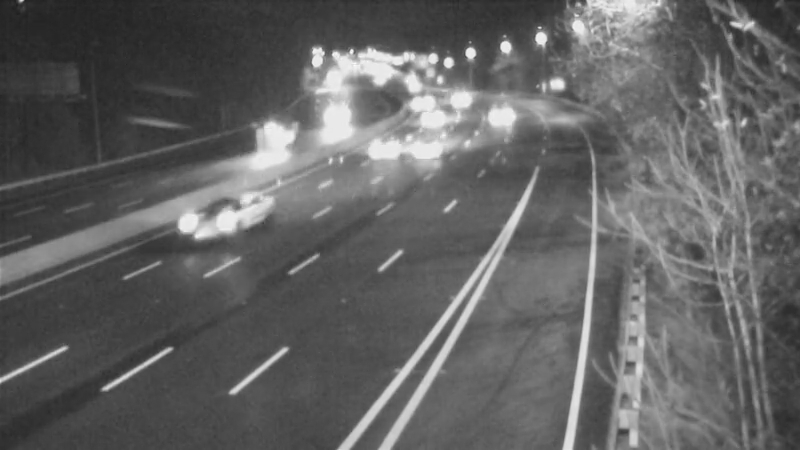vehicle: (385, 112, 465, 192), (181, 175, 261, 255), (432, 76, 482, 126), (395, 77, 445, 127), (475, 87, 525, 137), (411, 91, 461, 141), (359, 124, 409, 174), (246, 111, 296, 161), (310, 91, 360, 141)
